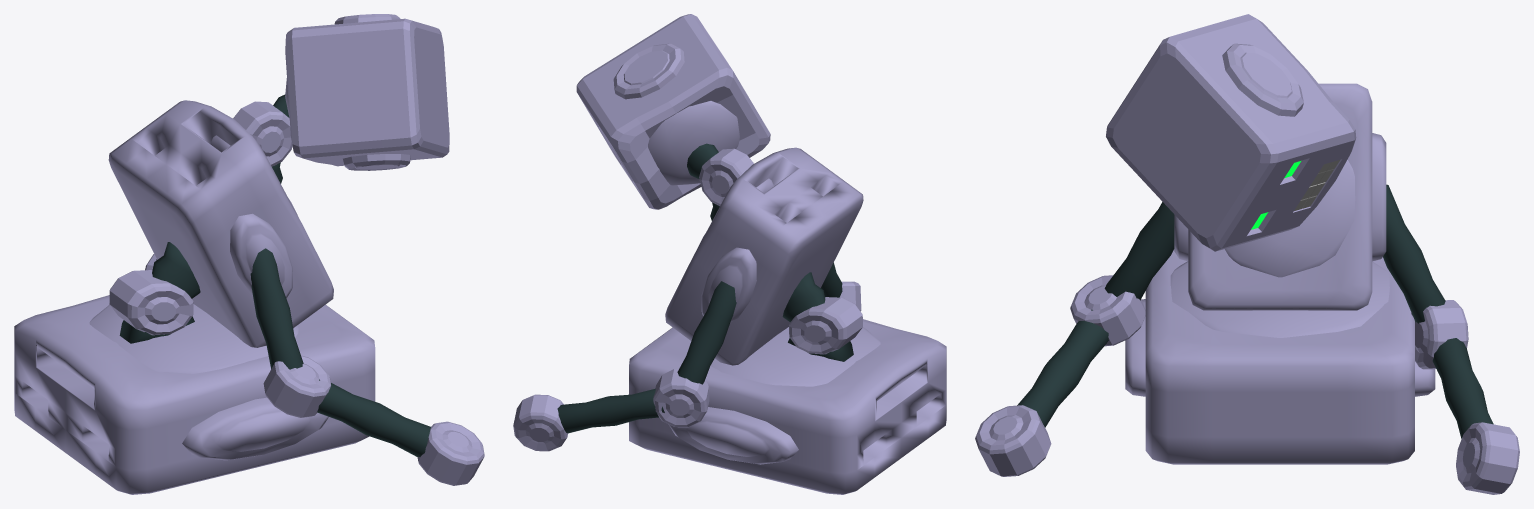
The model's file is Robot.fbx.
3 renders of one model, left to right at view 1: azimuth 30°, elevation 25°; view 2: azimuth 150°, elevation 25°; view 3: azimuth 270°, elevation 25°, orthographic. The views are drawn at different scales.
Parts seen in each view (by area): view 1: Icosphere.002, Icosphere.001, Icosphere, Cylinder.003, Cylinder.008, Cylinder.007, Cylinder.013, Cylinder.006, Cylinder.002, Cylinder.005, Cylinder.004; view 2: Icosphere.002, Icosphere.001, Icosphere, Cylinder.003, Cylinder.009, Cylinder.010, Cylinder.011, Cylinder.012, Cylinder.002, Cylinder.005, Cylinder, Cylinder.007; view 3: Icosphere.002, Icosphere, Icosphere.001, Cylinder.013, Cylinder.012, Cylinder.008, Cylinder.009, Cylinder.007, Cylinder.010, Cylinder.006, Cylinder.011.
Boxes of the visible parts, x1=… form: Icosphere.002: x1=14, y1=295, x2=375, y2=494; Icosphere.001: x1=108, y1=100, x2=333, y2=347; Icosphere: x1=285, y1=14, x2=449, y2=170; Cylinder.003: x1=109, y1=270, x2=193, y2=335; Cylinder.008: x1=317, y1=379, x2=430, y2=456; Cylinder.007: x1=250, y1=248, x2=303, y2=369; Cylinder.013: x1=417, y1=421, x2=484, y2=485; Cylinder.006: x1=263, y1=355, x2=330, y2=417; Cylinder.002: x1=233, y1=101, x2=292, y2=166; Cylinder.005: x1=152, y1=242, x2=200, y2=298; Cylinder.004: x1=119, y1=316, x2=194, y2=343; Icosphere.002: x1=629, y1=319, x2=946, y2=494; Icosphere.001: x1=665, y1=147, x2=863, y2=365; Icosphere: x1=576, y1=14, x2=770, y2=209; Cylinder.003: x1=789, y1=297, x2=862, y2=354; Cylinder.009: x1=677, y1=281, x2=736, y2=384; Cylinder.010: x1=557, y1=388, x2=664, y2=433; Cylinder.011: x1=653, y1=369, x2=709, y2=427; Cylinder.012: x1=513, y1=394, x2=568, y2=451; Cylinder.002: x1=699, y1=148, x2=753, y2=205; Cylinder.005: x1=782, y1=272, x2=825, y2=322; Cylinder: x1=687, y1=143, x2=718, y2=178; Cylinder.007: x1=821, y1=262, x2=842, y2=297; Icosphere.002: x1=1125, y1=249, x2=1435, y2=464; Icosphere: x1=1106, y1=14, x2=1356, y2=251; Icosphere.001: x1=1174, y1=83, x2=1386, y2=310; Cylinder.013: x1=975, y1=405, x2=1051, y2=476; Cylinder.012: x1=1456, y1=422, x2=1519, y2=494; Cylinder.008: x1=1017, y1=309, x2=1108, y2=427; Cylinder.009: x1=1383, y1=184, x2=1445, y2=323; Cylinder.007: x1=1104, y1=202, x2=1174, y2=300; Cylinder.010: x1=1432, y1=338, x2=1493, y2=438; Cylinder.006: x1=1070, y1=275, x2=1145, y2=346; Cylinder.011: x1=1411, y1=300, x2=1468, y2=369.
Bounding box in the file's own units: 532 × 552 × 607.
